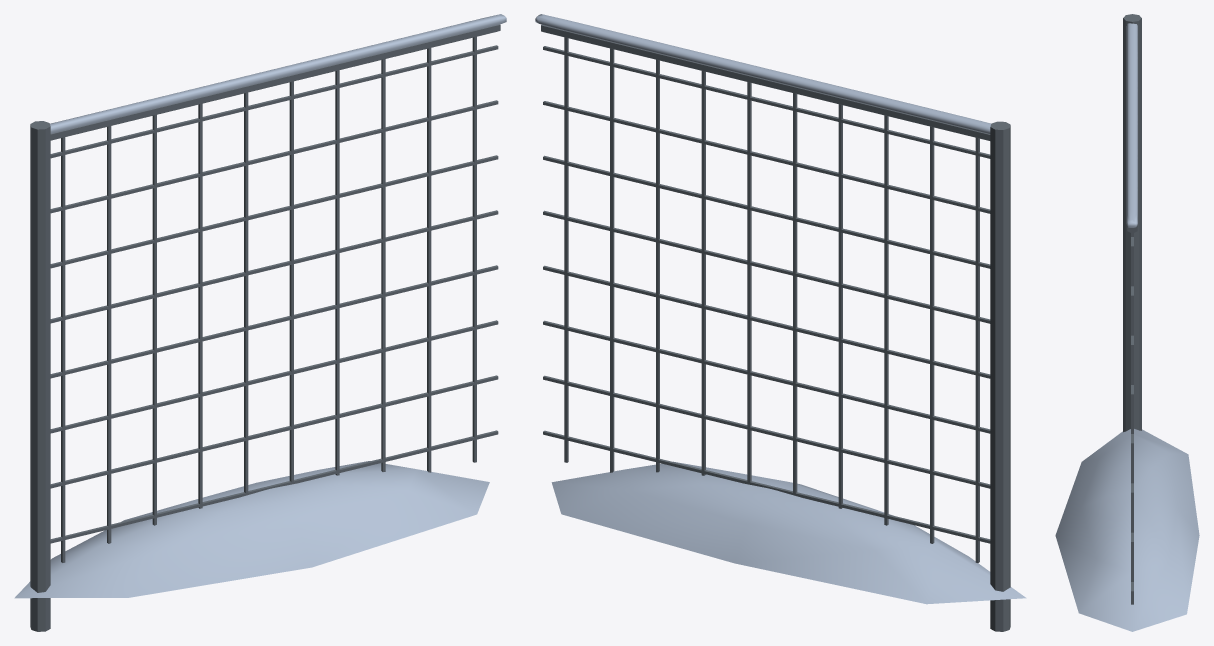
Rendered from fence_chain_2.glb.
3 views of the same model, side by side, from view 1: azimuth 30°, elevation 25°; view 2: azimuth 150°, elevation 25°; view 3: azimuth 270°, elevation 25° (orthographic). The views are drawn at different scales.
Parts seen in each view (by area): view 1: Prop; view 2: Prop; view 3: Prop.
Boxes of the visible parts, bbox=[...] form: Prop: bbox=[14, 14, 506, 631]; Prop: bbox=[535, 14, 1026, 631]; Prop: bbox=[1055, 14, 1199, 631].
Size of the model in its own units: 2.14 by 2.1 by 0.6099.
